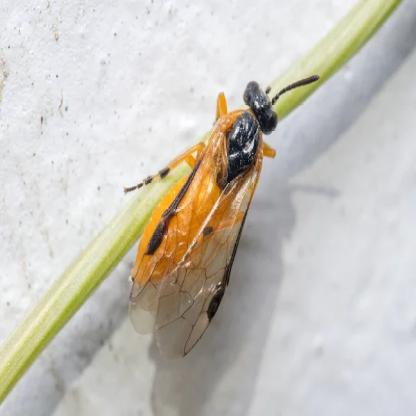sawfly: (124, 67, 322, 354)
